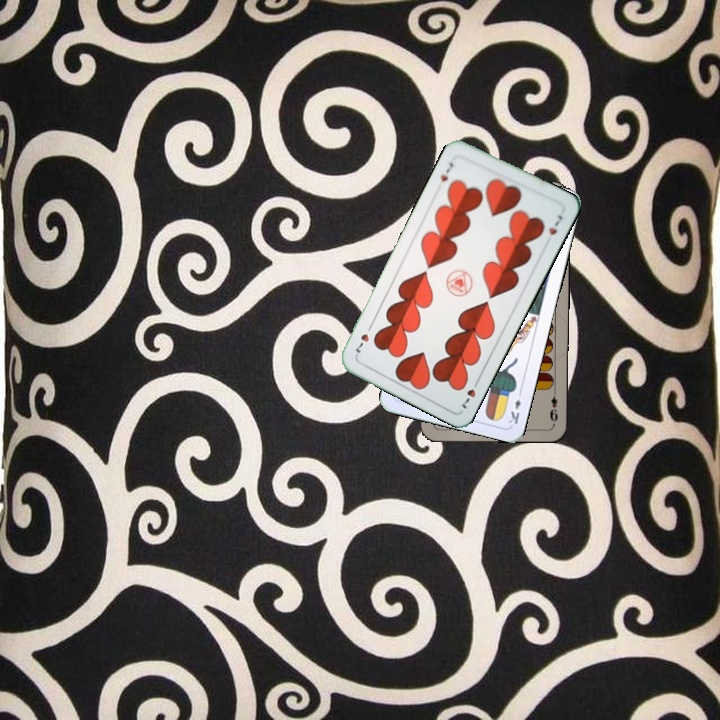E9: (546, 385, 561, 424)
EK: (505, 386, 525, 427)
H7: (458, 375, 482, 412), (436, 158, 456, 184)
